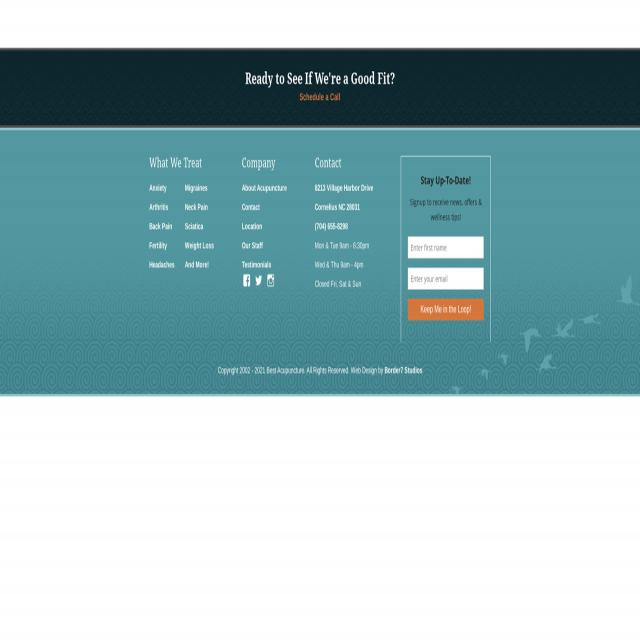button: (408, 299, 483, 320), (242, 274, 252, 294), (254, 274, 264, 294), (266, 274, 276, 294)
field: (408, 236, 484, 259), (408, 268, 484, 290)
